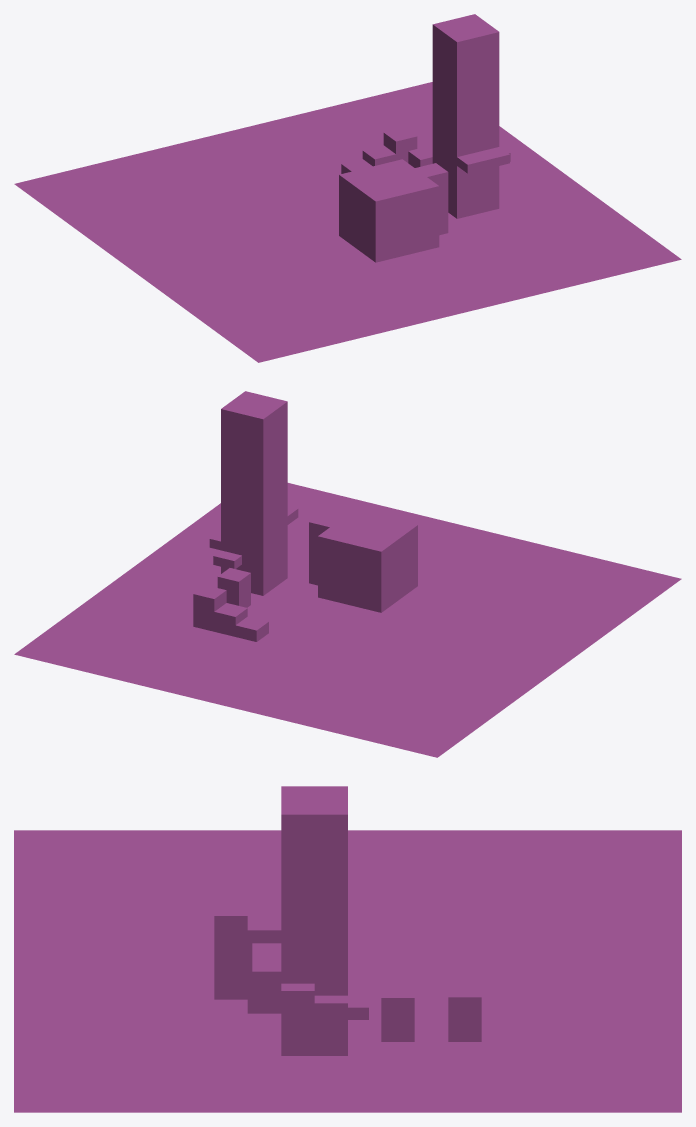
File: stage1.fbx
3 views of the same model, one above another, from view 1: azimuth 30°, elevation 25°; view 2: azimuth 150°, elevation 25°; view 3: azimuth 270°, elevation 25° (orthographic). The views are drawn at different scales.
Visible parts, largest first — view 1: pPlane1; view 2: pPlane1; view 3: pPlane1.
Part boxes in pixels (x1,y1,x2,y2): pPlane1: [14, 14, 681, 362]; pPlane1: [14, 391, 681, 757]; pPlane1: [14, 786, 681, 1112].
Size of the model in its own units: 100 by 39.88 by 100.
